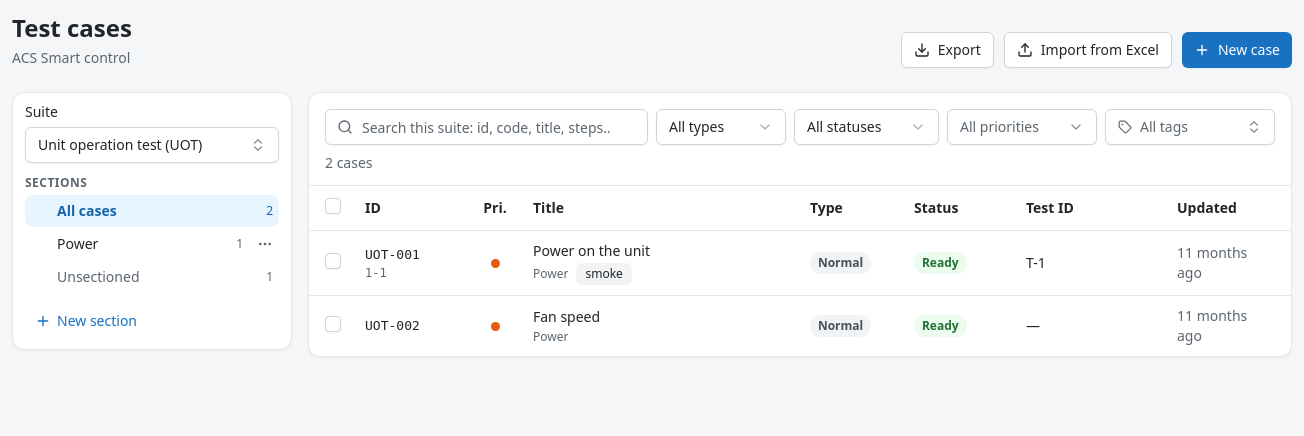
Test: CasesPage › runs a bulk action on the selected cases
The image size is (1304, 436).
Click the checkbox named "Select UOT-001" at (333,260), box [325,252,341,268]
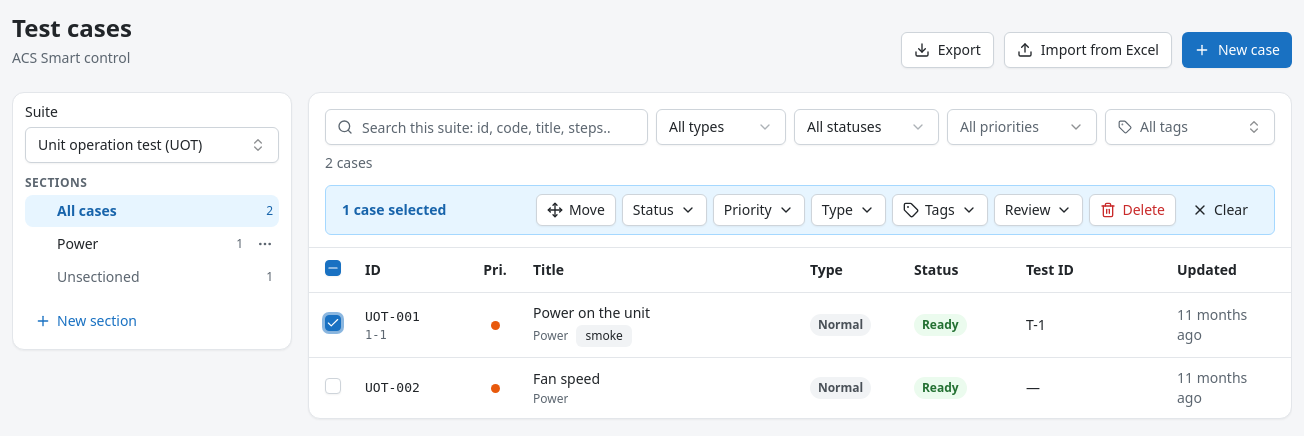
Click the checkbox named "Select UOT-002" at (333,386), box [325,378,341,394]
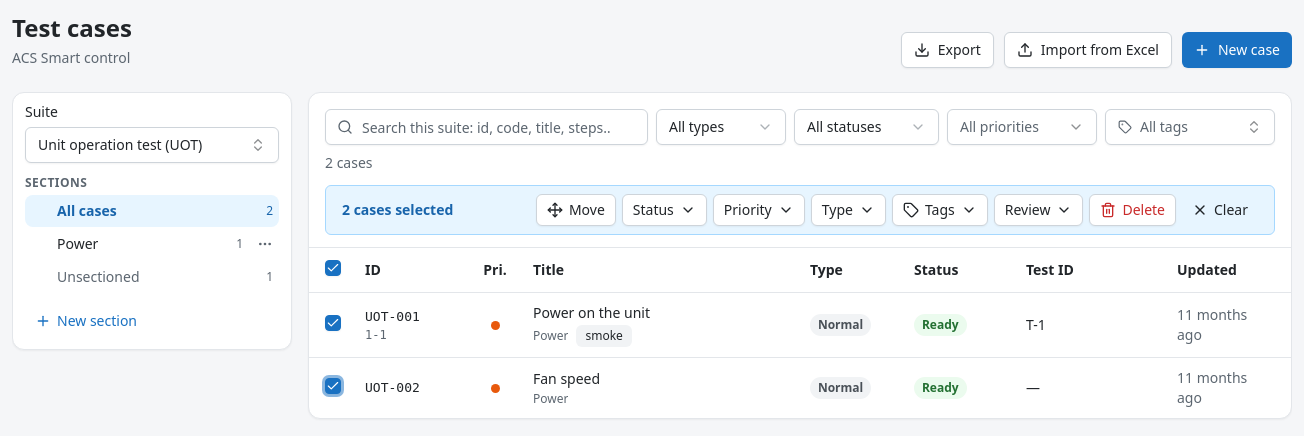
Expected: the text "2 cases selected" is shown, [342,200,453,220]
Expected: the checkbox named "Select all cases on this page" is checked, [325,260,341,276]
Click the button "Priority" at (759,210), box [713,194,805,226]
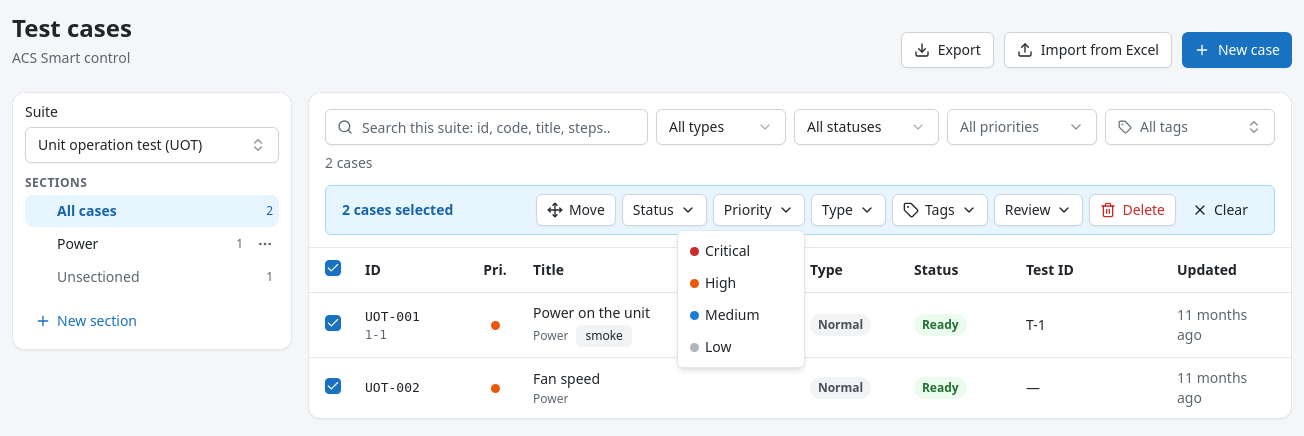
Click the menu item "Critical" at (720,250), box [690,241,750,260]
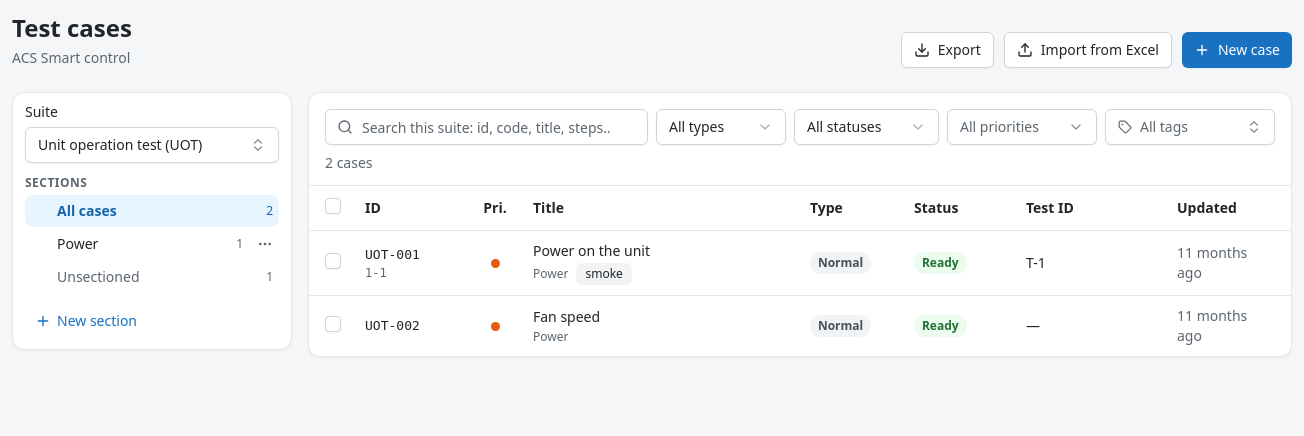
Expected: the text "2 cases selected" is gone
